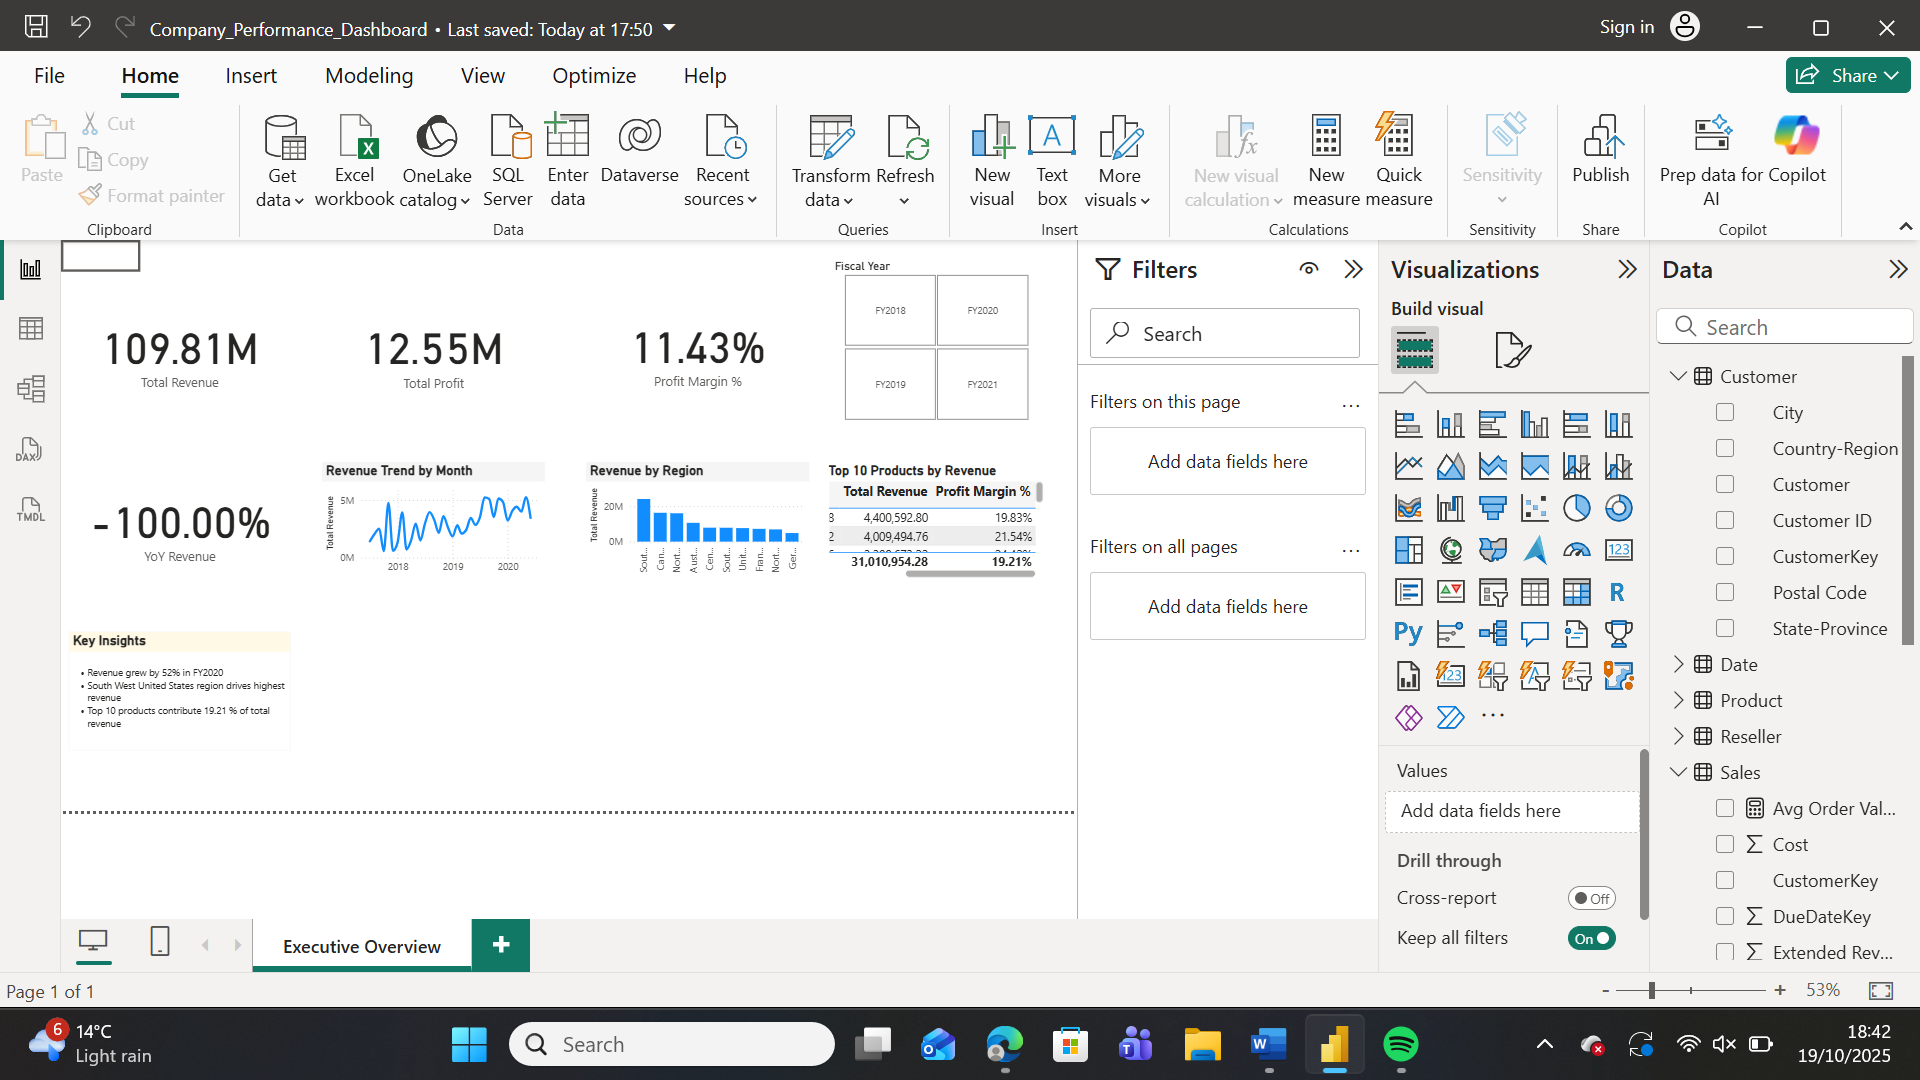

The dashboard page shown, as its layout file describes it:
{"tool":"powerbi","page":{"name":"Executive Overview","canvas":[1280,720],"ordinal":0},"visuals":[{"type":"card","fields":{"Values":["Sales.Total Revenue"]},"box":[10,0,280,280],"z":0},{"type":"card","fields":{"Values":["Sales.Total Profit"]},"box":[328.6,2.4,281,278.6],"z":1000},{"type":"card","fields":{"Values":["Sales.Profit Margin %"]},"box":[661.9,0,281,278.6],"z":2000},{"type":"slicer","fields":{"Values":["Date.Fiscal Year"]},"box":[961.6,19.8,280.4,214.4],"z":3000},{"type":"card","fields":{"Values":["Sales.YoY Revenue"]},"box":[9.9,285.4,280.4,148.5],"z":4000},{"type":"actionButton","box":[0,0,100,40],"z":5000},{"type":"lineChart","title":"Revenue Trend by Month","fields":{"Category":["Date.Month"],"Y":["Sales.Total Revenue"]},"box":[328.2,280.4,280.4,150.1],"z":6000},{"type":"clusteredColumnChart","title":"Revenue by Region","fields":{"Category":["SalesTerritory.Region"],"Y":["Sales.Total Revenue"]},"box":[662,280,281,150],"z":7000},{"type":"tableEx","title":"Top 10 Products by Revenue","fields":{"Values":["Product.Product","Sales.Total Revenue","Sales.Profit Margin %"]},"box":[962,280,280,150],"z":8000},{"type":"textbox","title":"Key Insights","box":[10,492.5,280,150],"z":9000},{"type":"actionButton","box":[0,0,100,40],"z":10000},{"type":"actionButton","box":[0,0,100,40],"z":11000},{"type":"actionButton","box":[0,0,100,40],"z":12000},{"type":"bookmarkNavigator","box":[0,0,600,50],"z":13000},{"type":"actionButton","box":[0,0,100,40],"z":14000}]}

Visuals, with their boxes on the page's 1280x720 design canvas (x1, y1, x2, y2). These are canvas units, not pixel positions in the 1920x1080 screenshot, which may show the page scaled, cropped or inside an application window:
card - Sales.Total Revenue: Rect(10, 0, 290, 280)
card - Sales.Total Profit: Rect(329, 2, 610, 281)
card - Sales.Profit Margin %: Rect(662, 0, 943, 279)
slicer - Date.Fiscal Year: Rect(962, 20, 1242, 234)
card - Sales.YoY Revenue: Rect(10, 285, 290, 434)
actionButton: Rect(0, 0, 100, 40)
"Revenue Trend by Month" lineChart: Rect(328, 280, 609, 430)
"Revenue by Region" clusteredColumnChart: Rect(662, 280, 943, 430)
"Top 10 Products by Revenue" tableEx: Rect(962, 280, 1242, 430)
"Key Insights" textbox: Rect(10, 492, 290, 642)
actionButton: Rect(0, 0, 100, 40)
actionButton: Rect(0, 0, 100, 40)
actionButton: Rect(0, 0, 100, 40)
bookmarkNavigator: Rect(0, 0, 600, 50)
actionButton: Rect(0, 0, 100, 40)
